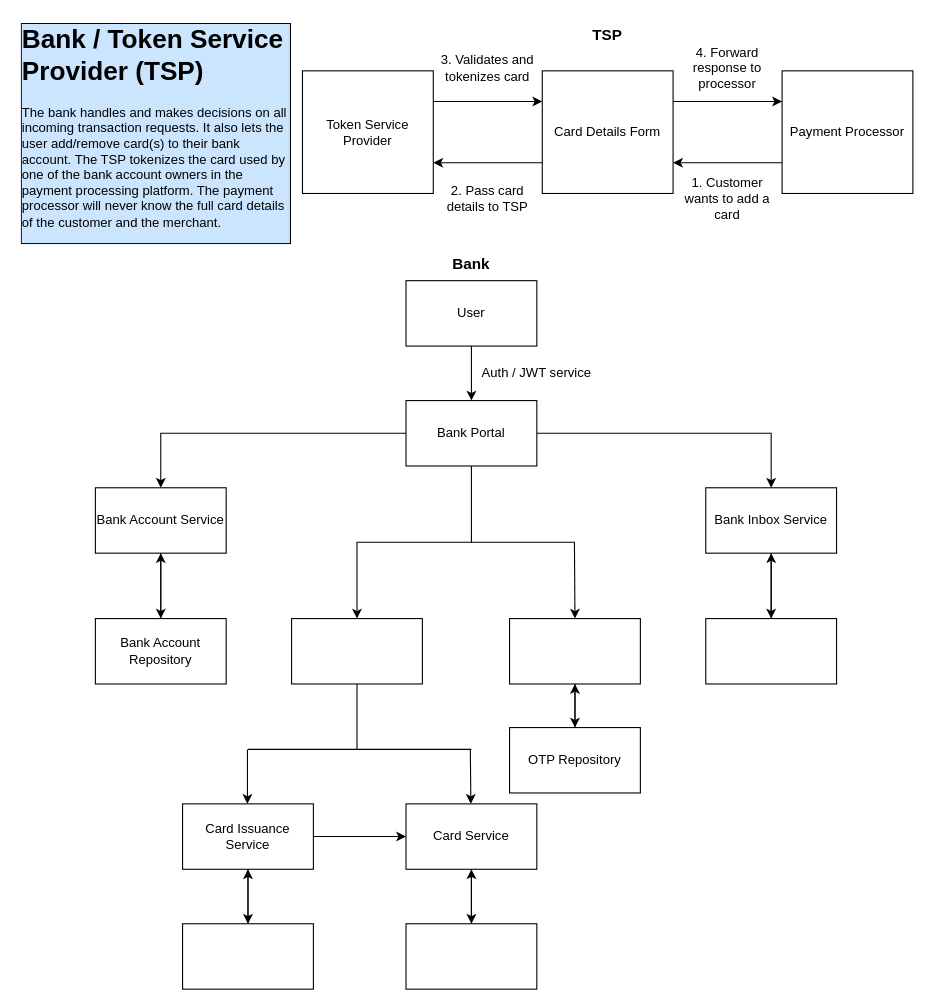
The diagram is 932 pixels wide and 1008 high, and some of its shapes have lost their labels. The shapes that lost their labels are listed below. From the top down, each one's centre as x and y in pixels, then its label:
At [356,650]: "Card Management".
At [574,650]: "One Time Passcode Service".
At [771,650]: "Bank Inbox Repository".
At [247,956]: "Card Token Generator".
At [471,956]: "Card Vault".
